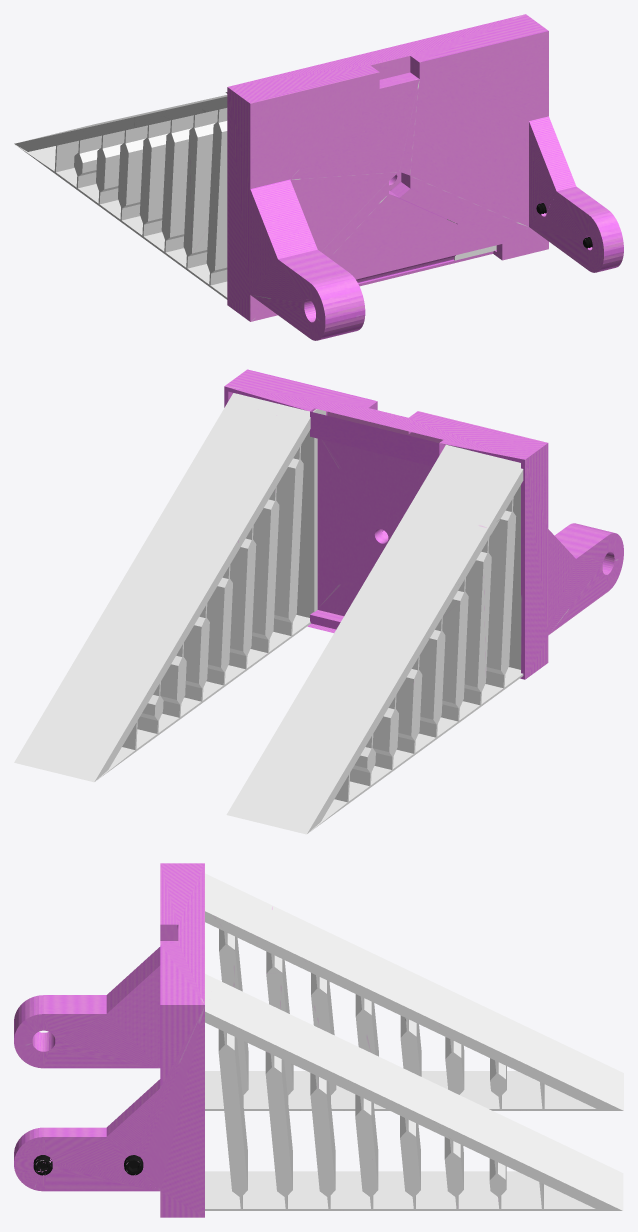
The model's file is gripper_left.dae.
The picture shows the model from 3 angles, top to bottom: view 1: azimuth 30°, elevation 25°; view 2: azimuth 150°, elevation 25°; view 3: azimuth 270°, elevation 25°; orthographic projection. The views are drawn at different scales.
Parts seen in each view (by area): view 1: tmp_export_gripper_left; view 2: tmp_export_gripper_left; view 3: tmp_export_gripper_left.
Part boxes in pixels (<box>): tmp_export_gripper_left: <box>14,14,623,340</box>; tmp_export_gripper_left: <box>14,369,623,834</box>; tmp_export_gripper_left: <box>14,863,623,1217</box>.
Bounding box in the file's own units: 0.077 × 0.1363 × 0.0524.
Materials: 1 (1 with a texture image).
